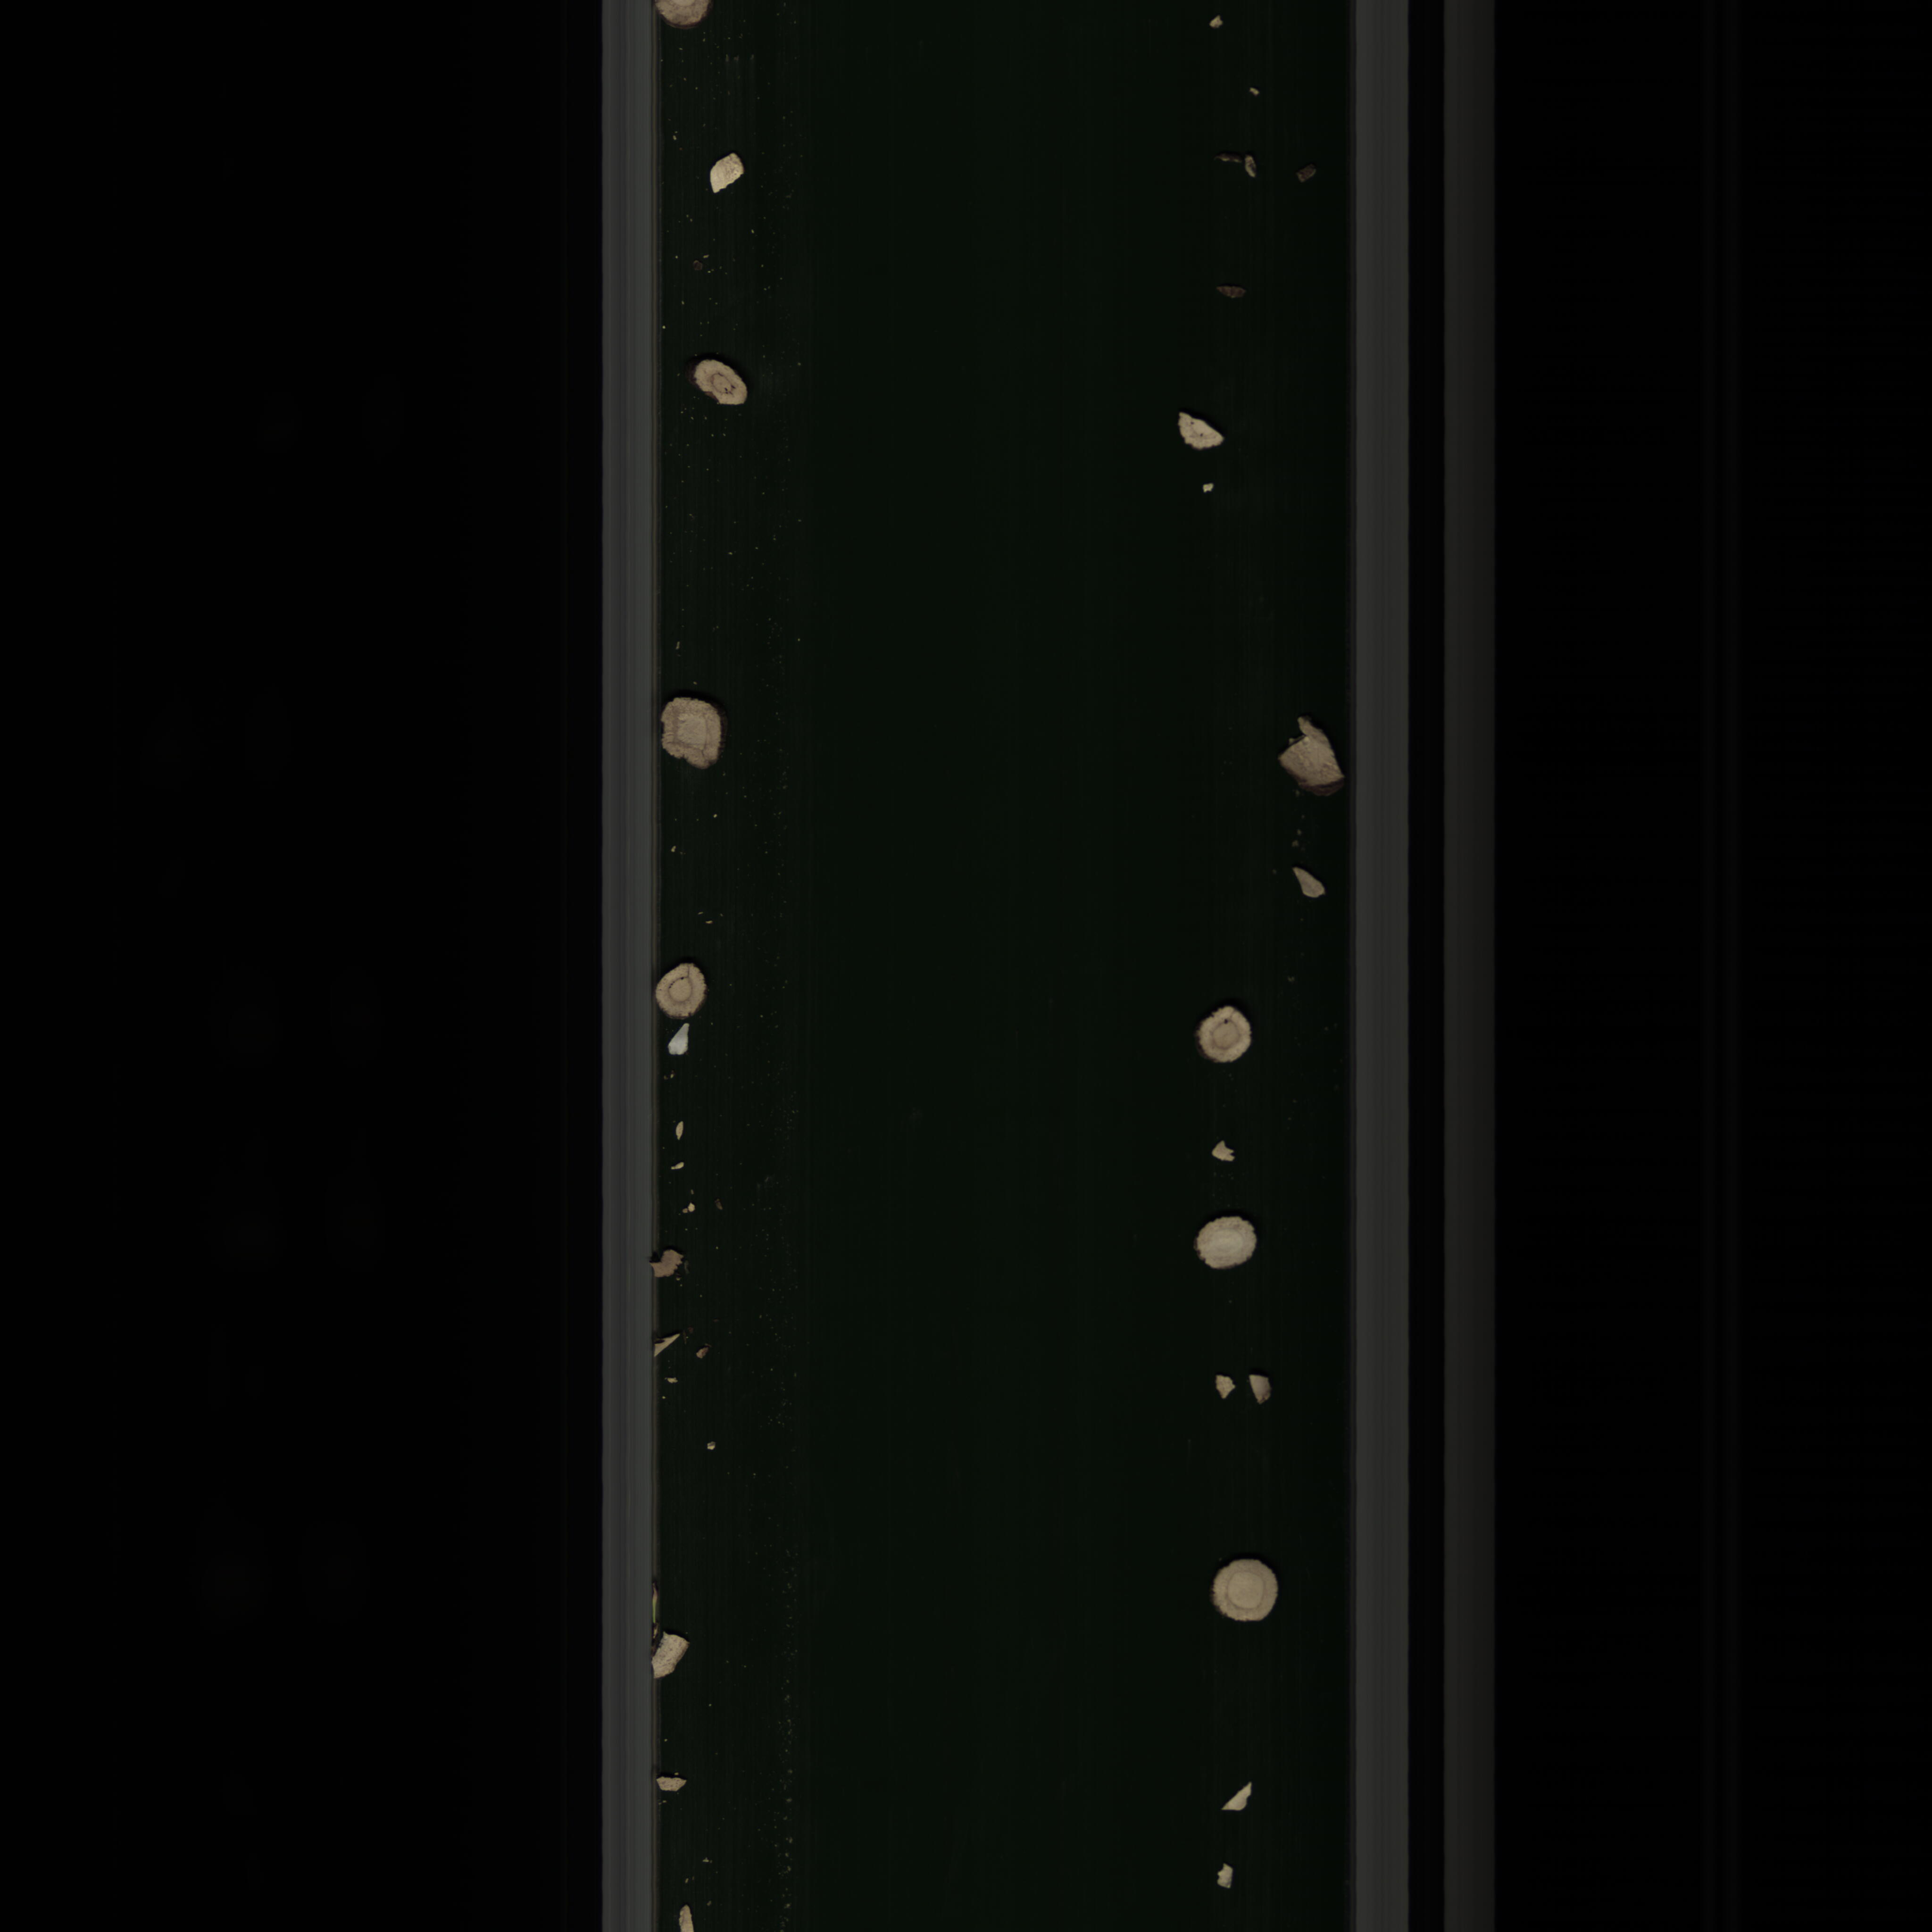debris: (1276, 713, 1345, 801), (1171, 402, 1230, 455), (651, 1628, 697, 1686), (701, 149, 754, 196), (1288, 860, 1332, 906), (1217, 1775, 1258, 1817), (648, 1242, 683, 1284), (651, 1771, 695, 1799), (1246, 1371, 1277, 1407), (1208, 1368, 1238, 1403), (1214, 1856, 1244, 1891), (1208, 1134, 1240, 1166), (667, 1024, 695, 1060), (653, 1329, 683, 1355)
distortion: (662, 695, 724, 778), (685, 354, 752, 416)
